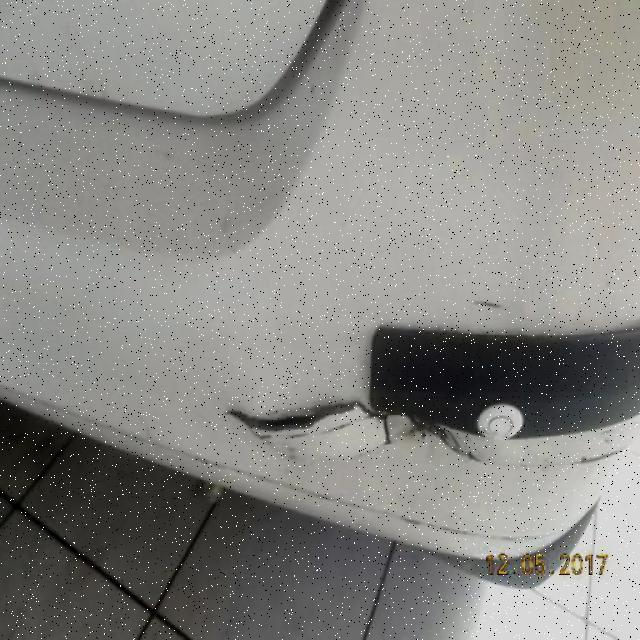car damage: (225, 388, 636, 474)
